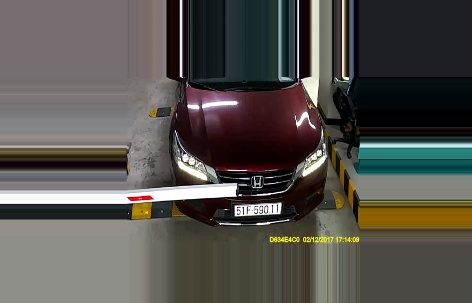plate: (233, 201, 282, 216)
